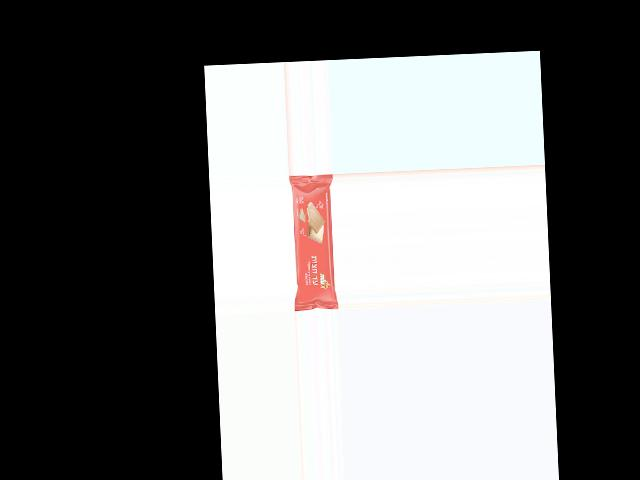chocolate: (287, 175, 338, 307)
